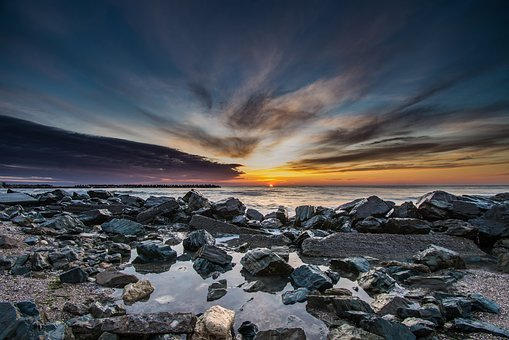sky: (12, 1, 506, 175)
stone: (7, 200, 489, 330)
